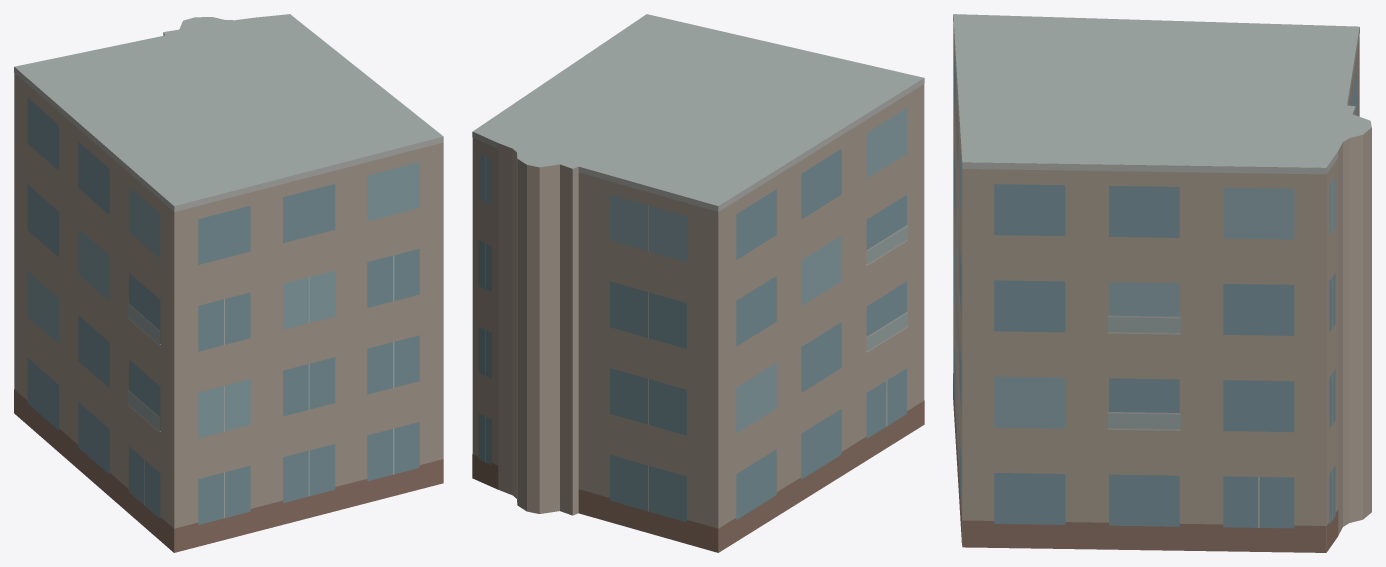
File: survey-upis-32766814.glb
3 views of the same model, side by side, from view 1: azimuth 30°, elevation 25°; view 2: azimuth 150°, elevation 25°; view 3: azimuth 270°, elevation 25° (orthographic). The views are drawn at different scales.
Visible parts, largest first — view 1: survey-upis-32766814.tmp; view 2: survey-upis-32766814.tmp; view 3: survey-upis-32766814.tmp.
Boxes of the visible parts, bbox=[...] form: survey-upis-32766814.tmp: bbox=[14, 14, 443, 552]; survey-upis-32766814.tmp: bbox=[472, 14, 924, 552]; survey-upis-32766814.tmp: bbox=[953, 14, 1371, 552].
Bounding box in the file's own units: 12.26 × 14.3 × 14.1.
